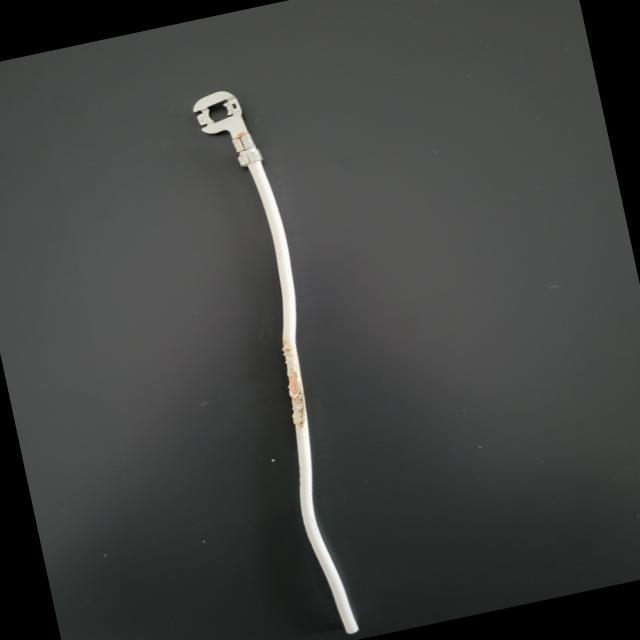defect: (251, 327, 351, 468)
